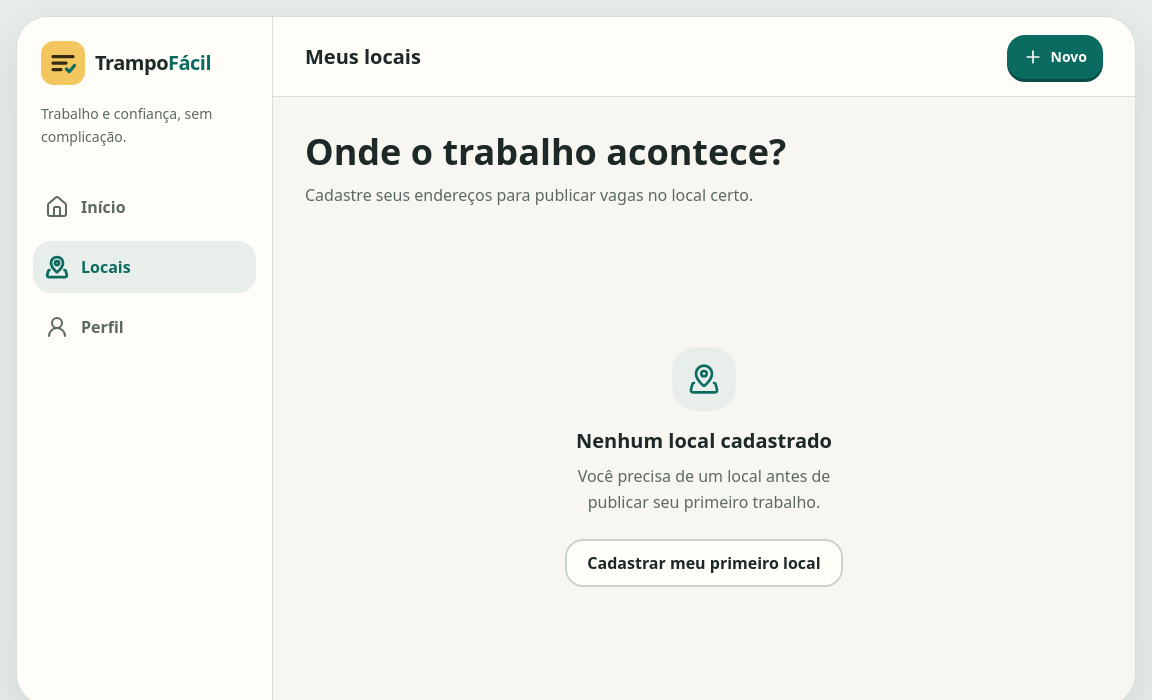
Test: contractor locations flow › offers a first-location action when the list is empty
Expected: the heading "Nenhum local cadastrado" is shown, [576,426,832,454]
Click the button "Cadastrar meu primeiro local" at (704, 562), box [565,538,843,586]
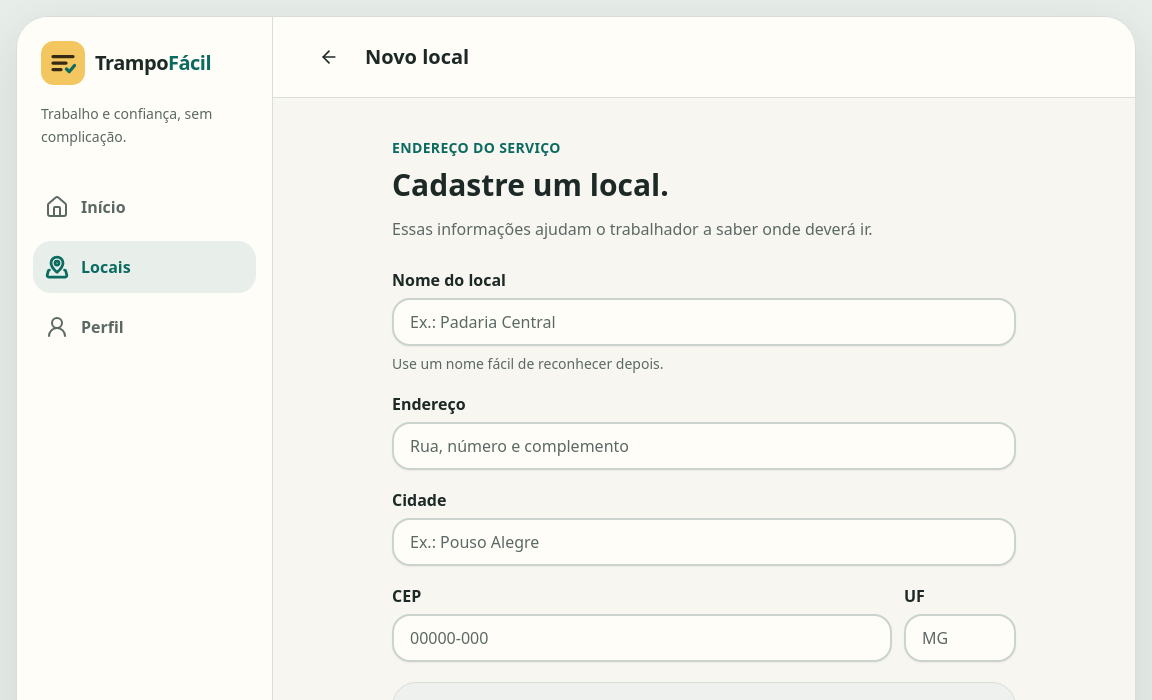
Result: the heading "Cadastre um local." is shown at [392,164,669,205]
